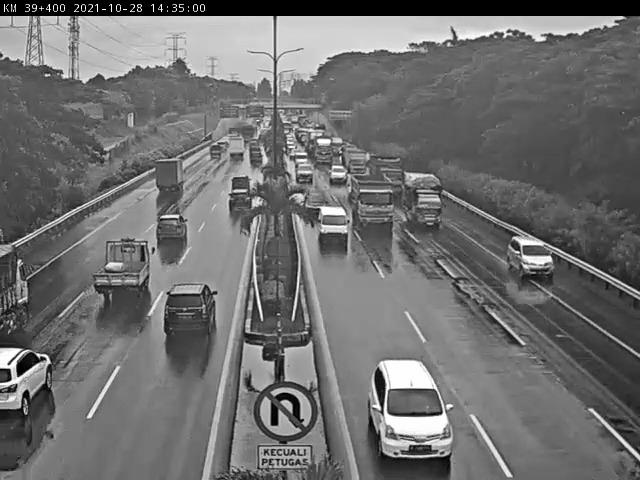big truck: (0, 244, 33, 337), (348, 177, 398, 231)
car: (356, 351, 470, 468), (0, 344, 62, 432), (162, 276, 220, 337), (502, 230, 559, 285), (316, 206, 354, 247), (152, 214, 187, 241), (291, 158, 320, 186), (303, 191, 329, 216), (328, 161, 351, 186), (229, 175, 257, 192), (232, 192, 257, 211)
small truck: (95, 237, 151, 297), (402, 172, 447, 237), (153, 157, 190, 198)
